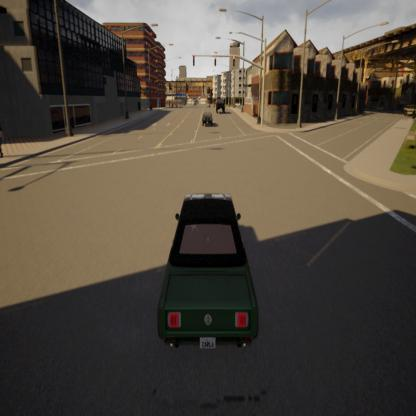Cars: (158, 180, 263, 346), (208, 92, 228, 113), (200, 111, 216, 128)
Pedestrian: (0, 112, 13, 160)
